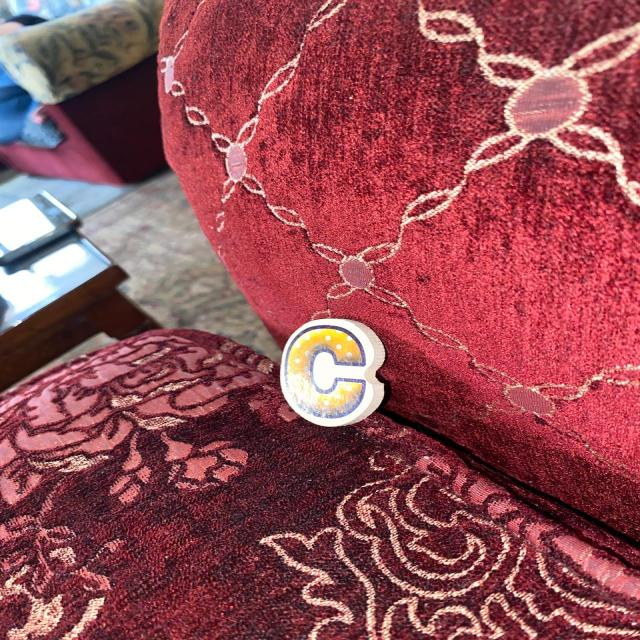C: (280, 319, 385, 427)
